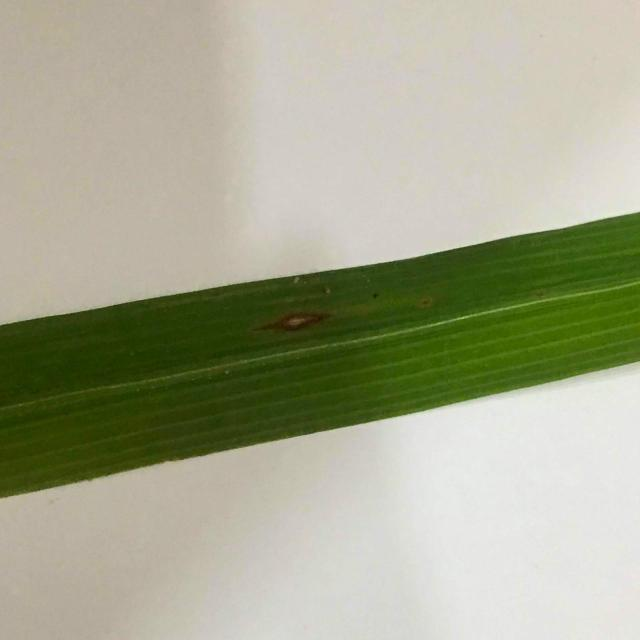Leaf blast: (250, 291, 330, 363)
